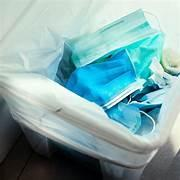Mask: (68, 10, 163, 78), (66, 50, 141, 108), (106, 102, 159, 134), (106, 102, 140, 132), (129, 88, 168, 110), (56, 42, 75, 85), (148, 58, 176, 87), (161, 49, 179, 75)
